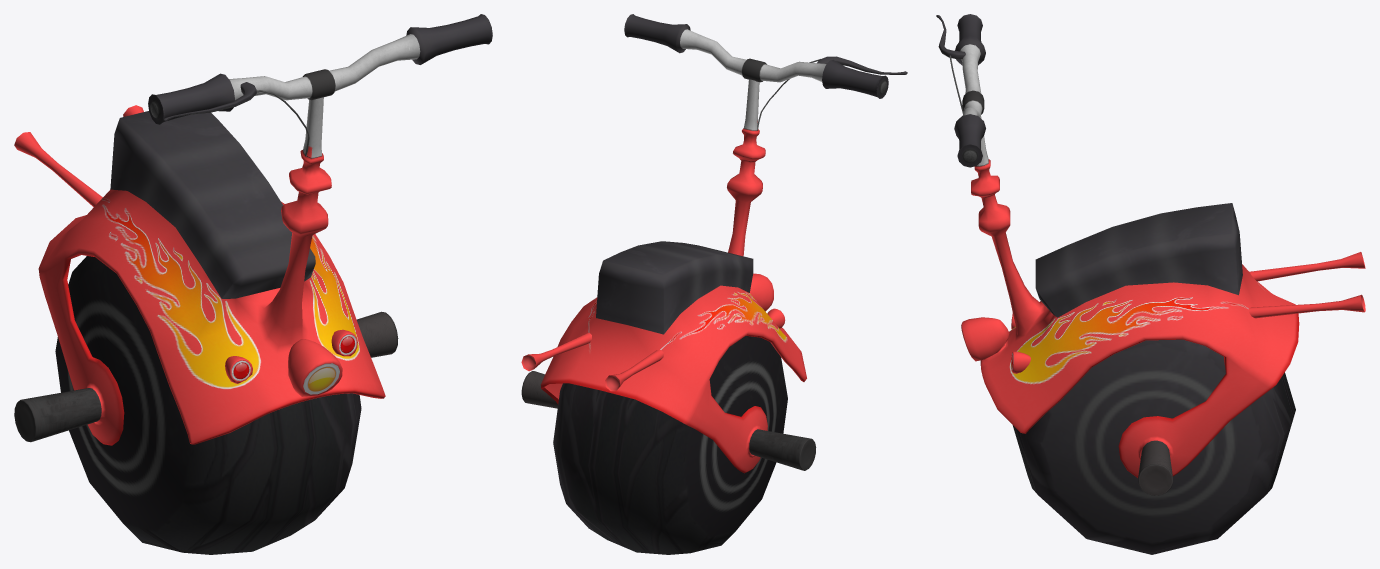
The model's file is motor_lv2.fbx.
The picture shows the model from 3 angles, left to right: view 1: azimuth 30°, elevation 25°; view 2: azimuth 150°, elevation 25°; view 3: azimuth 270°, elevation 25°; orthographic projection. The views are drawn at different scales.
Parts seen in each view (by area): view 1: motor_lv2, Banh_Xe; view 2: motor_lv2, Banh_Xe; view 3: motor_lv2, Banh_Xe.
Part boxes in pixels (<box>): motor_lv2: <box>14,14,492,445</box>; Banh_Xe: <box>55,256,361,554</box>; motor_lv2: <box>521,14,907,473</box>; Banh_Xe: <box>553,336,787,554</box>; motor_lv2: <box>936,14,1365,495</box>; Banh_Xe: <box>1012,339,1295,554</box>.
Size of the model in its own units: 1.77 by 2.66 by 2.23.
1 material, 1 textured.
